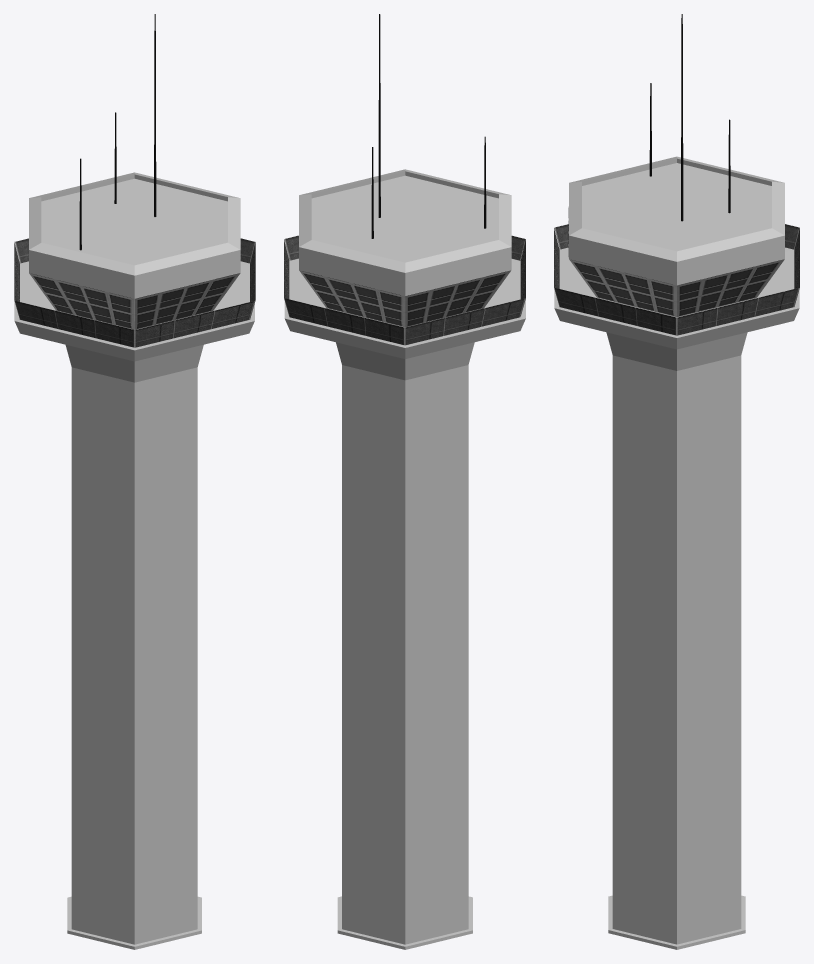
Rendered from control_tower_01_b.FBX.
3 views of the same model, side by side, from view 1: azimuth 30°, elevation 25°; view 2: azimuth 150°, elevation 25°; view 3: azimuth 270°, elevation 25° (orthographic). The views are drawn at different scales.
Visible parts, largest first — view 1: control_tower_01_b; view 2: control_tower_01_b; view 3: control_tower_01_b.
Boxes of the visible parts, <box> form: control_tower_01_b: <box>14,14,255,949</box>; control_tower_01_b: <box>284,14,525,949</box>; control_tower_01_b: <box>554,14,799,949</box>.
Size of the model in its own units: 35.36 by 126 by 30.62.
